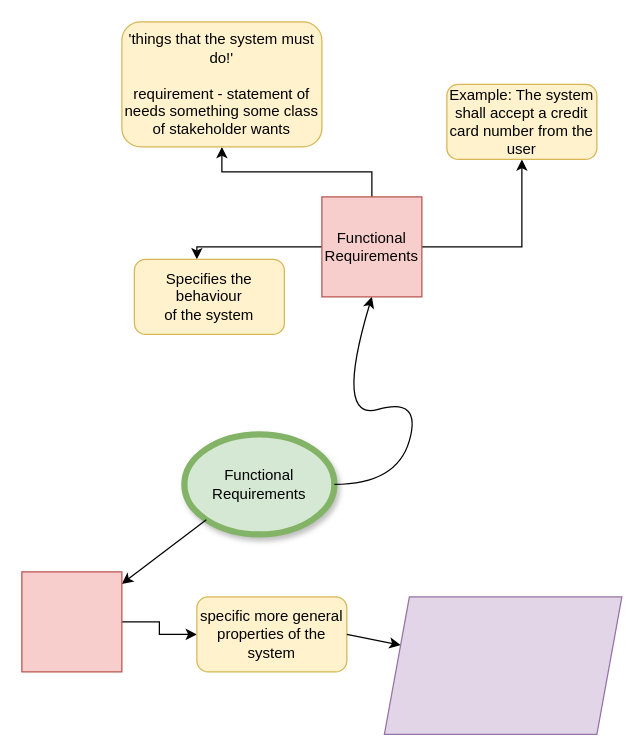
The diagram is 644 pixels wide and 756 high, and some of its shapes have lost their labels. The centre of each missing label's shape, as x and y in pixels:
Non-functional Requirements (qualities): point (71, 621)
usability maintainability reliability security time-constraint: point (502, 665)
